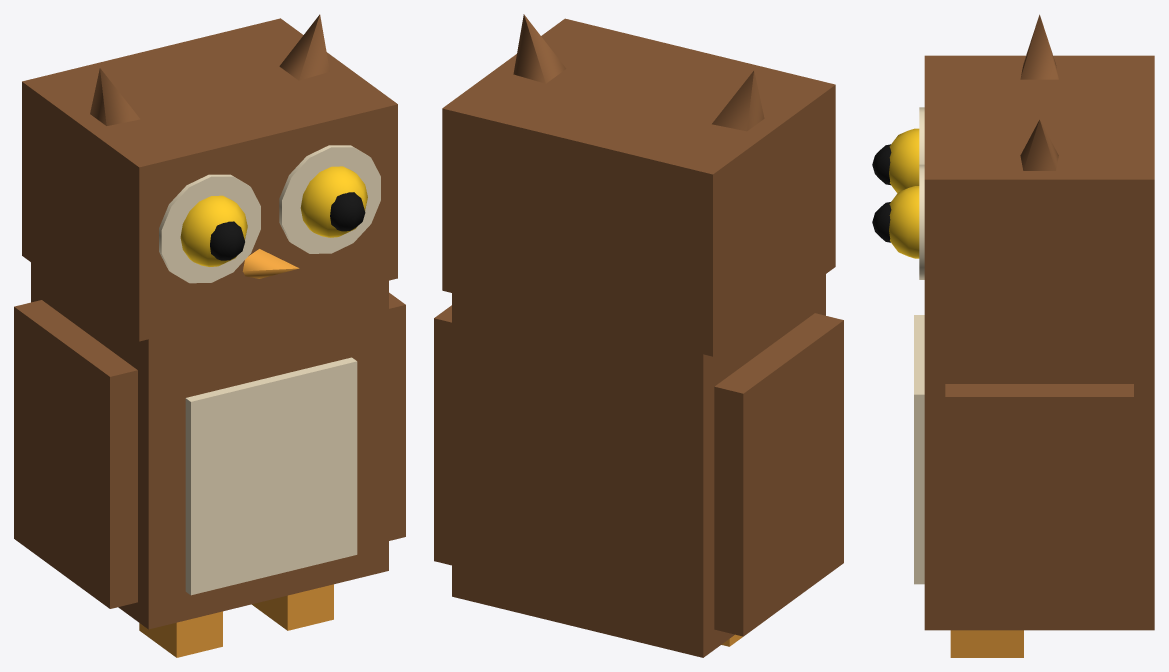
File: pet_owl.glb
3 renders of one model, left to right at view 1: azimuth 30°, elevation 25°; view 2: azimuth 150°, elevation 25°; view 3: azimuth 270°, elevation 25°, orthographic. The views are drawn at different scales.
Parts seen in each view (by area): view 1: head, pet_owl, wing_R, wing_L; view 2: head, pet_owl, wing_R, wing_L; view 3: head, wing_L, pet_owl.
Boxes of the visible parts, <box> form: head: <box>22,14,397,341</box>; pet_owl: <box>31,262,388,657</box>; wing_R: <box>14,300,137,608</box>; wing_L: <box>389,292,405,540</box>; head: <box>442,14,835,356</box>; pet_owl: <box>452,274,825,657</box>; wing_R: <box>714,313,843,636</box>; wing_L: <box>434,305,451,565</box>; head: <box>872,14,1154,350</box>; wing_L: <box>945,384,1133,624</box>; pet_owl: <box>914,315,1154,657</box>.
Size of the model in its own units: 0.32 by 0.5838 by 0.27.
